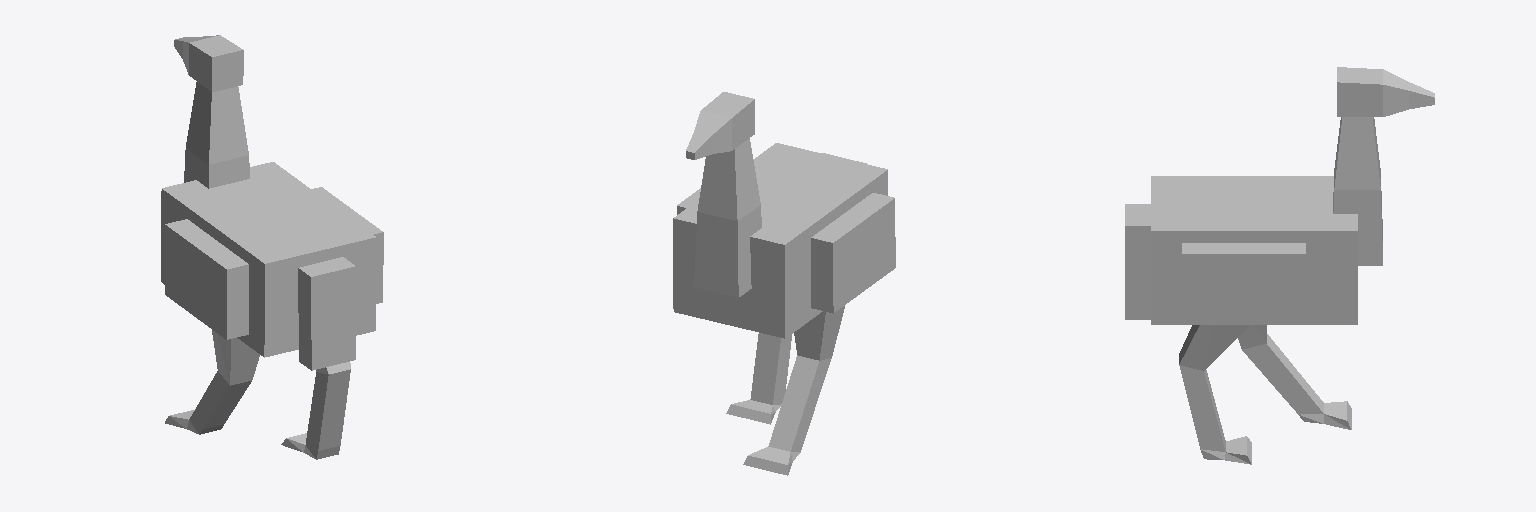
File: Ostrich_000204.obj
3 views of the same model, side by side, from view 1: azimuth 30°, elevation 25°; view 2: azimuth 150°, elevation 25°; view 3: azimuth 270°, elevation 25° (orthographic).
Parts seen in each view (by area): view 1: Cube_Cube.001; view 2: Cube_Cube.001; view 3: Cube_Cube.001.
Boxes of the visible parts, x1,y1,x2,y2 form: Cube_Cube.001: [161, 35, 383, 459]; Cube_Cube.001: [673, 92, 895, 475]; Cube_Cube.001: [1125, 67, 1434, 464].
Bounding box in the file's own units: 0.7022 × 1.55 × 1.2.